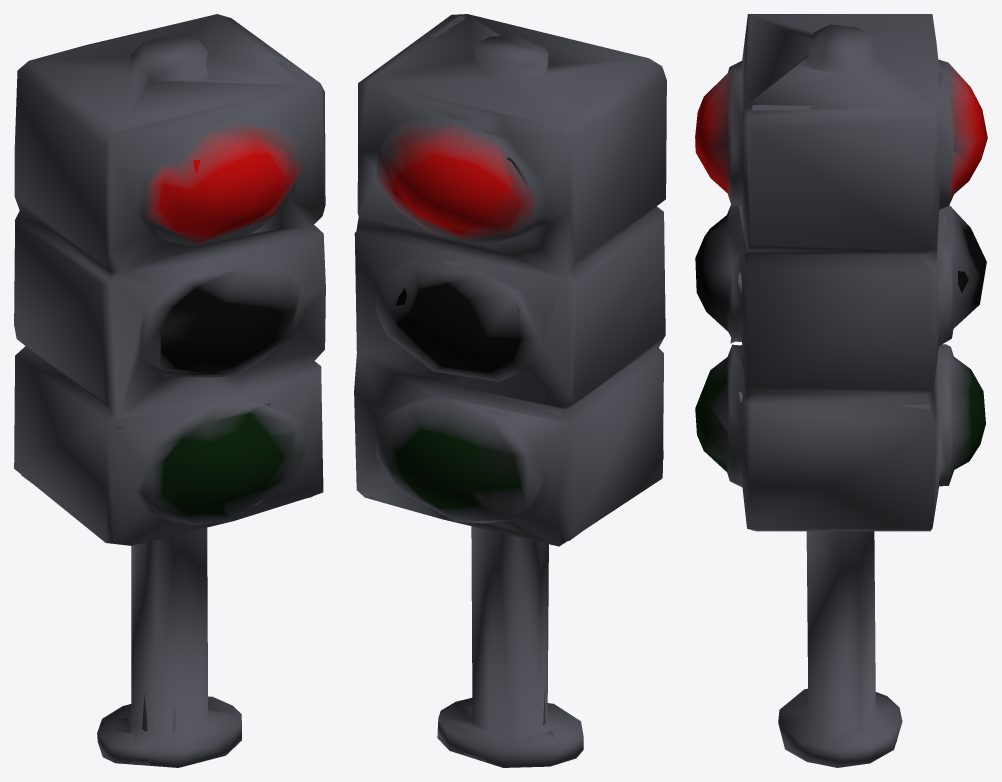
Rendered from gen3d-traffic-light-lod1.glb.
The picture shows the model from 3 angles, left to right: view 1: azimuth 30°, elevation 25°; view 2: azimuth 150°, elevation 25°; view 3: azimuth 270°, elevation 25°; orthographic projection.
Visible parts, largest first — view 1: part_0; view 2: part_0; view 3: part_0.
Boxes of the visible parts, x1=… form: part_0: x1=14, y1=14, x2=325, y2=767; part_0: x1=354, y1=14, x2=666, y2=767; part_0: x1=695, y1=14, x2=987, y2=767.
Bounding box in the file's own units: 0.3337 × 0.9972 × 0.3803.
